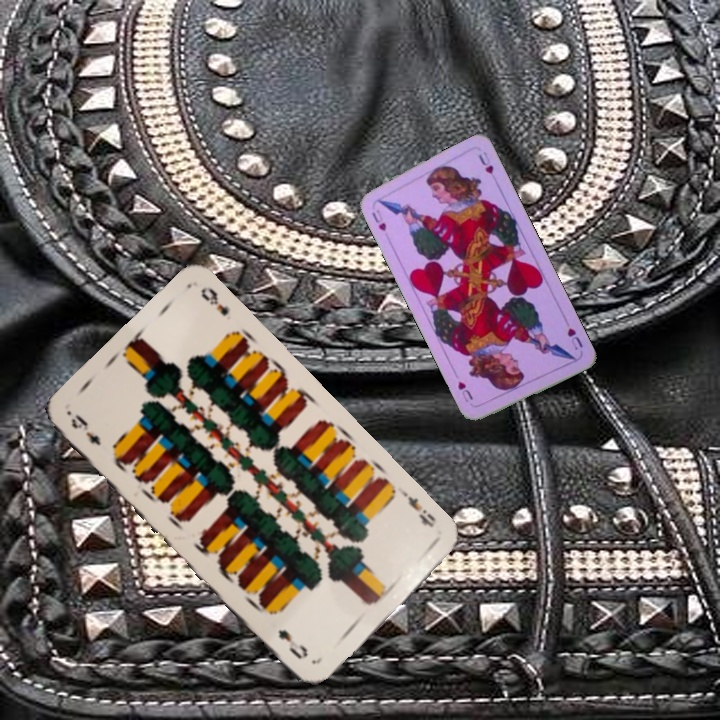E9: (399, 488, 439, 530), (66, 410, 104, 449)
HU: (563, 324, 586, 352), (368, 206, 389, 234)
